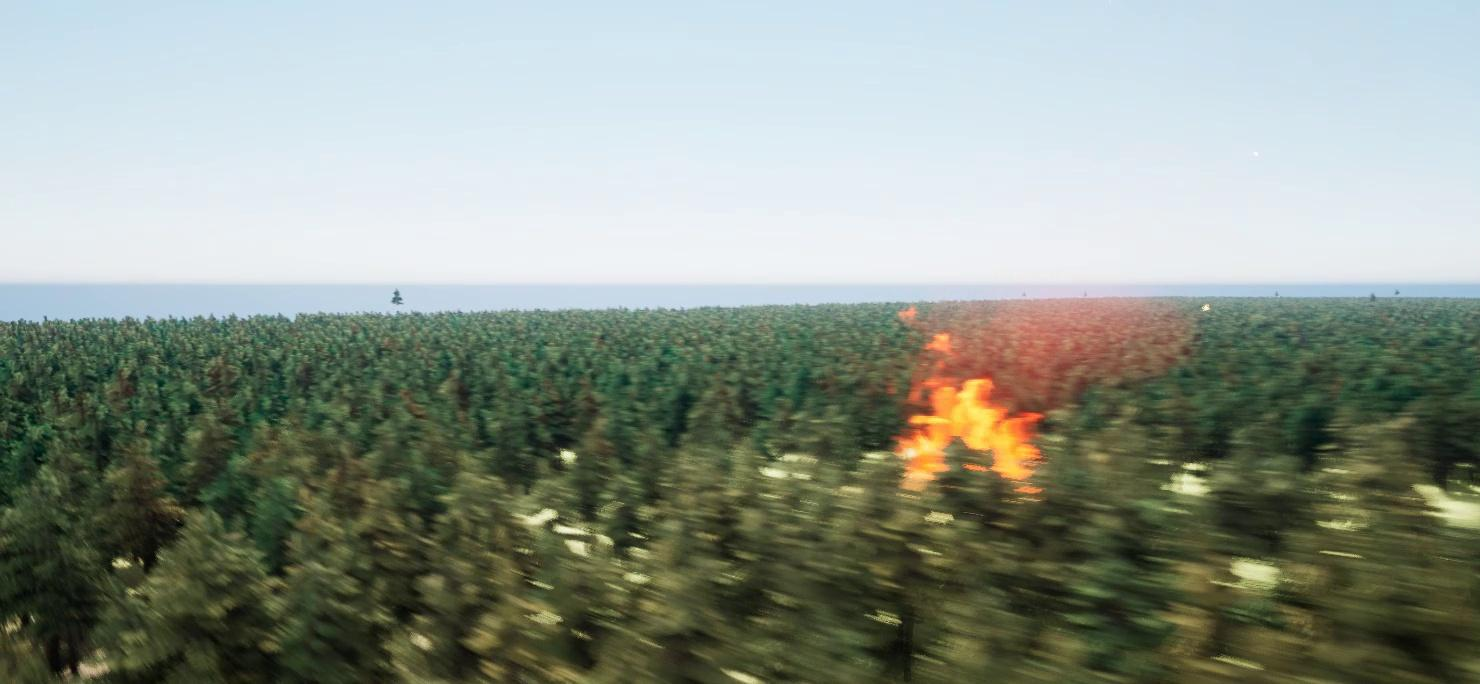fire: (904, 371, 1037, 491)
smoke: (936, 294, 1198, 404)
